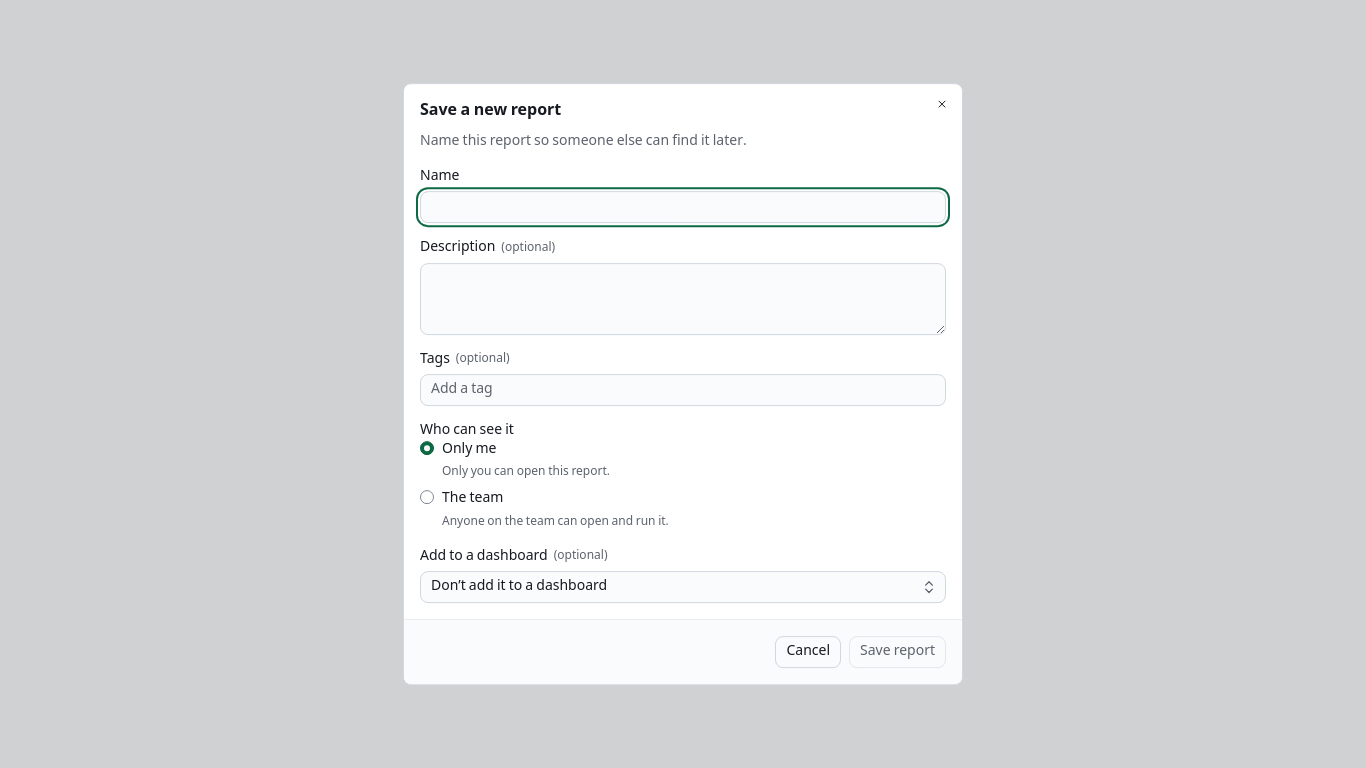
Test case: a transport failure still loses nothing › keeps the dialog open with the name and the description intact
Type "Kept on failure" into the field labelled "Name" at (683, 207), box left=420, top=191, right=946, bottom=223
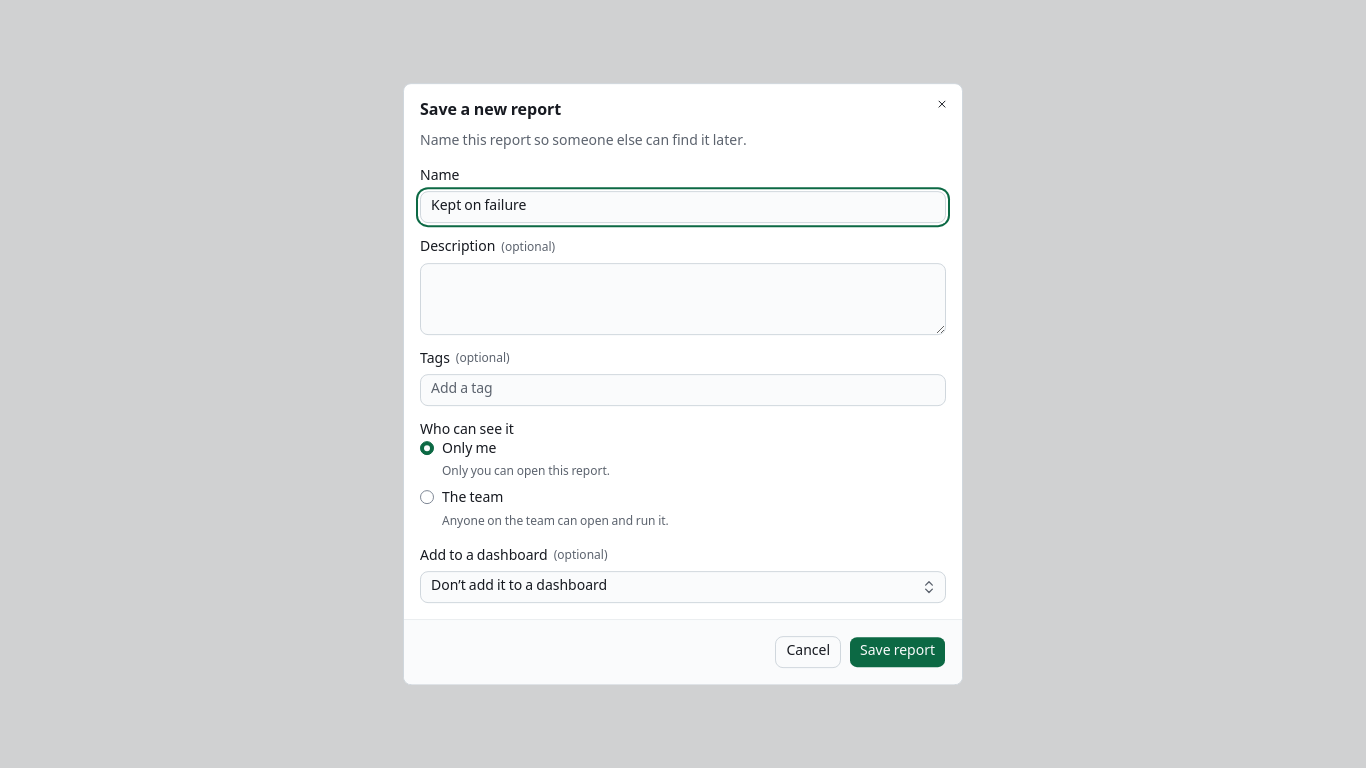
Type "and so is this" into the text box labelled "Description (optional)" at (683, 299), box left=420, top=263, right=946, bottom=335
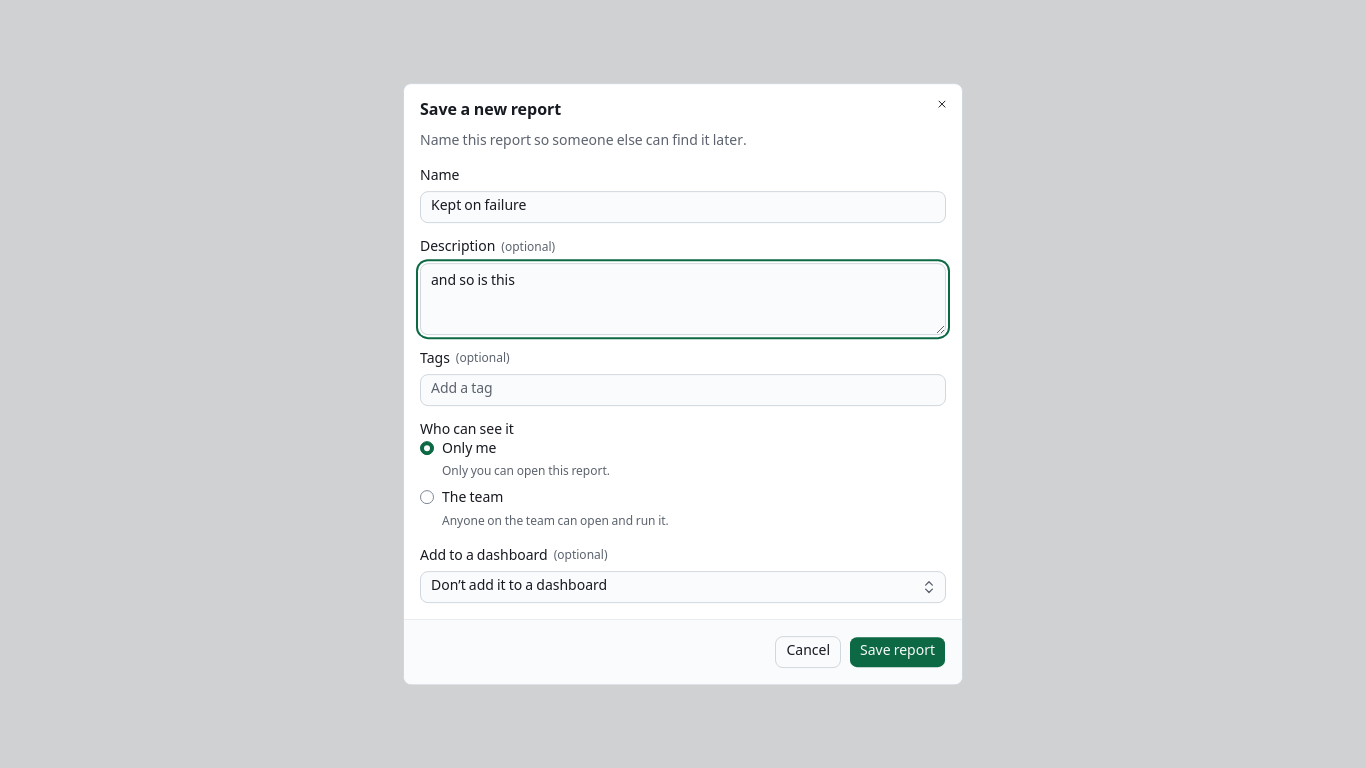
Click the button "Save report" at (898, 652), box left=849, top=636, right=946, bottom=668
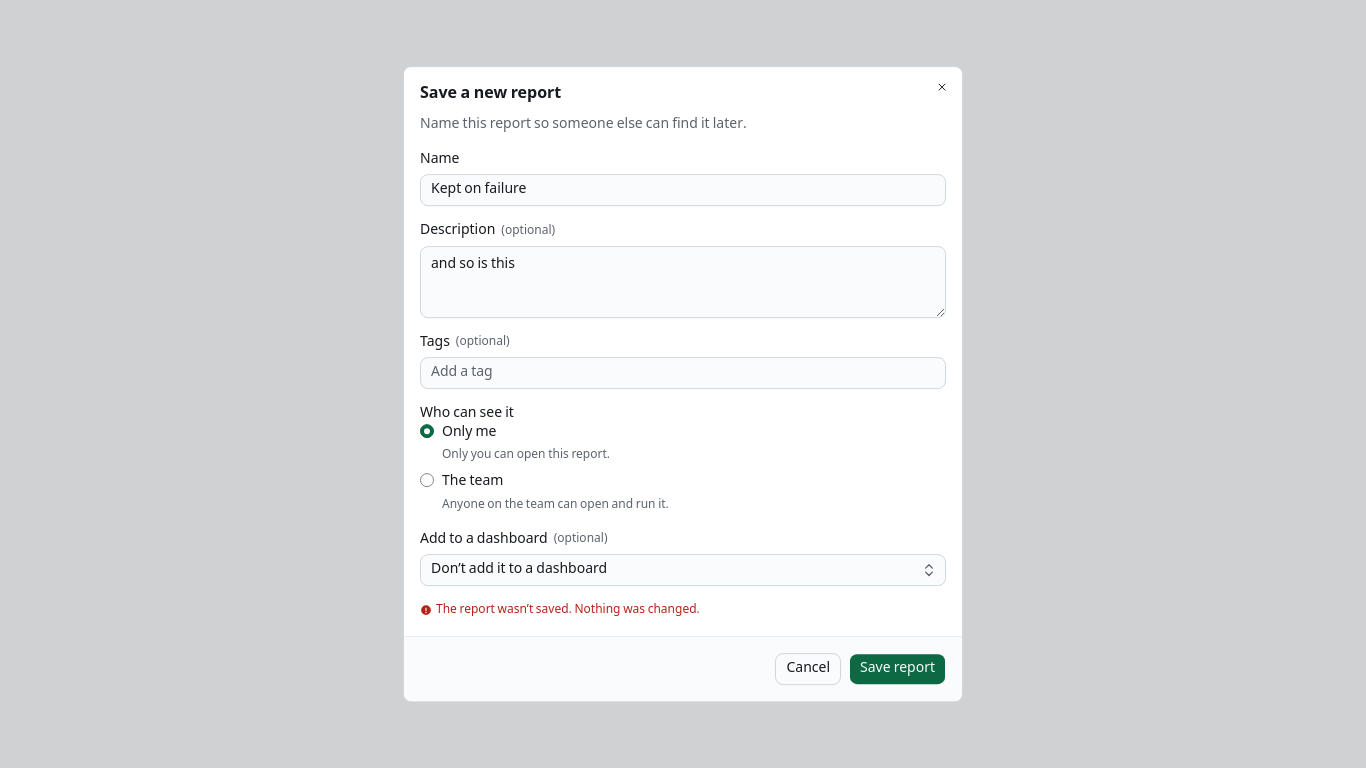
Expected: the text "The report wasn’t saved. Nothing was changed." is shown, left=436, top=602, right=700, bottom=620
